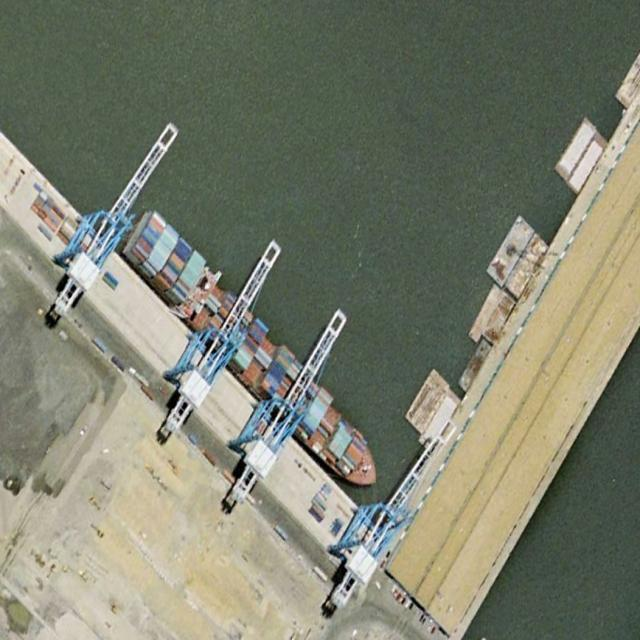Container Ship: (118, 198, 394, 500)
